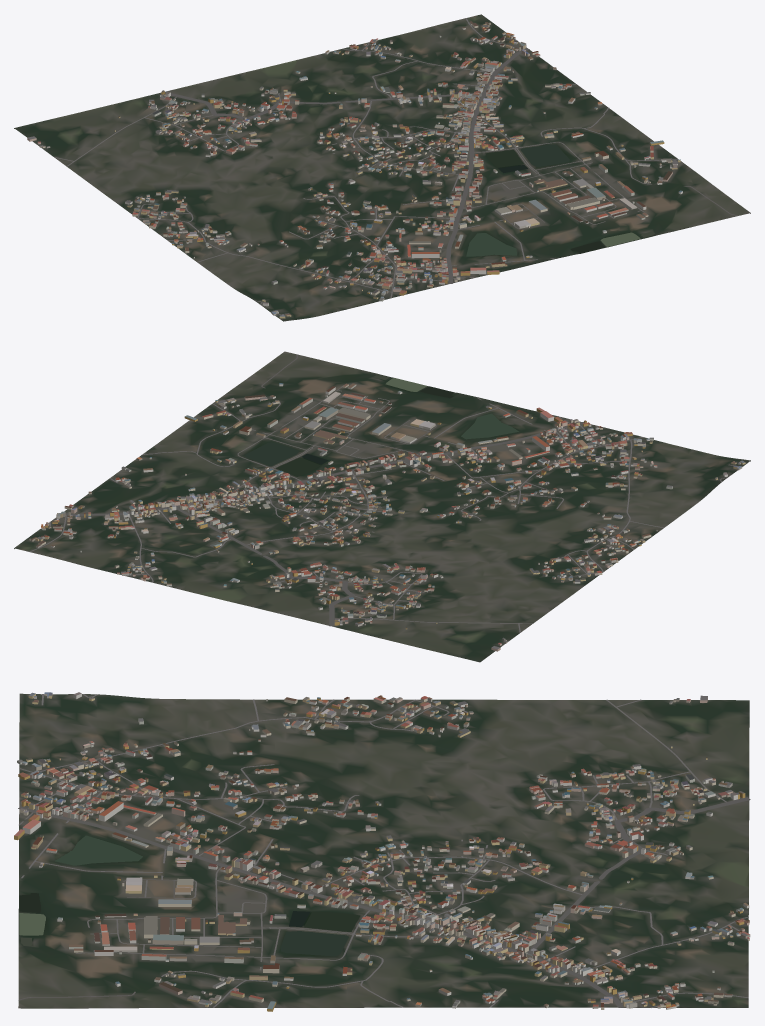
3 views of the same model, one above another, from view 1: azimuth 30°, elevation 25°; view 2: azimuth 150°, elevation 25°; view 3: azimuth 270°, elevation 25° (orthographic). The views are drawn at different scales.
Parts seen in each view (by area): view 1: ground, buildings, roads, water; view 2: ground, buildings, roads, water; view 3: ground, buildings, roads, water.
Boxes of the visible parts, box(x1,y1,x2,y2) form: ground: box(14, 14, 750, 321); buildings: box(27, 21, 682, 318); roads: box(54, 18, 738, 315); water: box(466, 144, 654, 256); ground: box(14, 351, 750, 662); buildings: box(29, 383, 745, 651); roads: box(29, 354, 738, 632); water: box(244, 375, 518, 476); ground: box(18, 693, 749, 1008); buildings: box(14, 692, 750, 1011); roads: box(18, 694, 750, 1007); water: box(19, 835, 360, 956).
Bounding box in the file's own units: 1421 × 22.74 × 1415.
